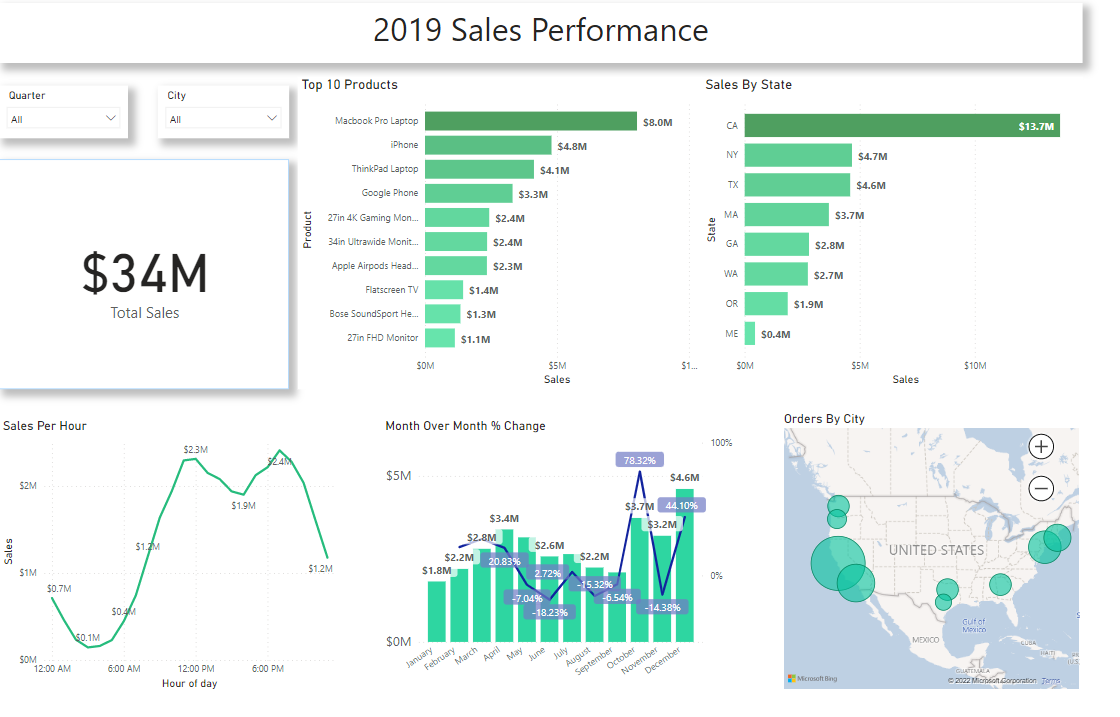

What the dashboard file says about the page in this screenshot:
{"tool":"powerbi","page":{"name":"Page 1","canvas":[1500,1500],"ordinal":0},"visuals":[{"type":"textbox","box":[0,13.3,1445,80],"z":0},{"type":"slicer","fields":{"Values":["Sales_2019_SQL.Quarter"]},"box":[0,123.3,171.7,70],"z":1000},{"type":"slicer","fields":{"Values":["Sales_2019_SQL.City"]},"box":[211.7,123.3,175,70],"z":2000},{"type":"card","fields":{"Values":["Sum(Sales_2019_SQL.Sales)"]},"box":[0,221.7,386.7,306.7],"z":3000},{"type":"barChart","title":"Top 10 Products","fields":{"Category":["Sales_2019_SQL.Product"],"Y":["Sum(Sales_2019_SQL.Sales)"]},"box":[398.6,111.4,538.6,417.1],"z":4000},{"type":"barChart","title":"Sales By State","fields":{"Y":["Sum(Sales_2019_SQL.Sales)"],"Category":["Sales_2019_SQL.State"]},"box":[937.1,111.4,508.6,417.1],"z":5000},{"type":"map","title":"Orders By City","fields":{"Category":["Sales_2019_SQL.City"],"Size":["CountNonNull(Sales_2019_SQL.OrderID)"]},"box":[1041.7,556.7,403.3,376.7],"z":7000},{"type":"lineStackedColumnComboChart","title":"Month Over Month % Change","fields":{"Category":["Sales_2019_SQL.OrderDate.Variation.Date Hierarchy.Month"],"Y":["Sum(Sales_2019_SQL.Sales)"],"Y2":["AllMeasure.MoM%"]},"box":[510,566.7,486.7,366.7],"z":8000},{"type":"lineChart","title":"Sales Per Hour","fields":{"Category":["TimeTable.1 hour Interval"],"Y":["Sum(Sales_2019_SQL.Sales)"]},"box":[0,566.7,465,366.7],"z":9000}]}

Visuals, with their boxes on the page's 1500x1500 design canvas (x1, y1, x2, y2). These are canvas units, not pixel positions in the 1120x717 screenshot, which may show the page scaled, cropped or inside an application window:
textbox: [x1=0, y1=13, x2=1445, y2=93]
slicer - Sales_2019_SQL.Quarter: [x1=0, y1=123, x2=172, y2=193]
slicer - Sales_2019_SQL.City: [x1=212, y1=123, x2=387, y2=193]
card - Sum(Sales_2019_SQL.Sales): [x1=0, y1=222, x2=387, y2=528]
"Top 10 Products" barChart: [x1=399, y1=111, x2=937, y2=528]
"Sales By State" barChart: [x1=937, y1=111, x2=1446, y2=528]
"Orders By City" map: [x1=1042, y1=557, x2=1445, y2=933]
"Month Over Month % Change" lineStackedColumnComboChart: [x1=510, y1=567, x2=997, y2=933]
"Sales Per Hour" lineChart: [x1=0, y1=567, x2=465, y2=933]
